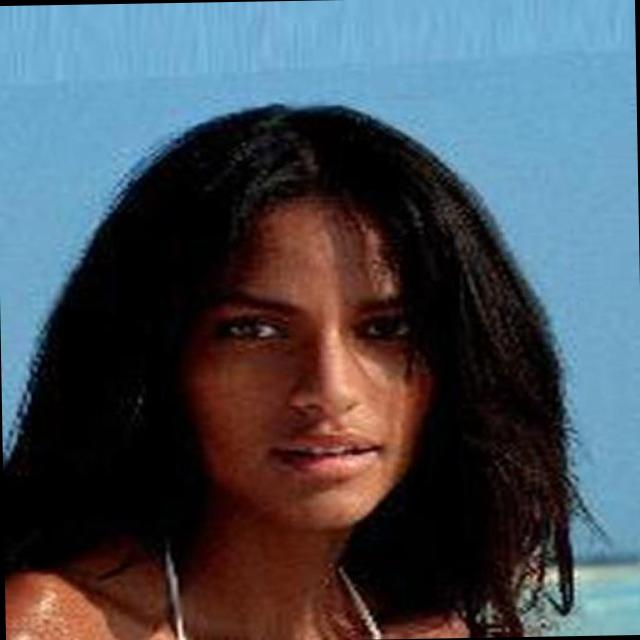bareface: (184, 120, 471, 535)
